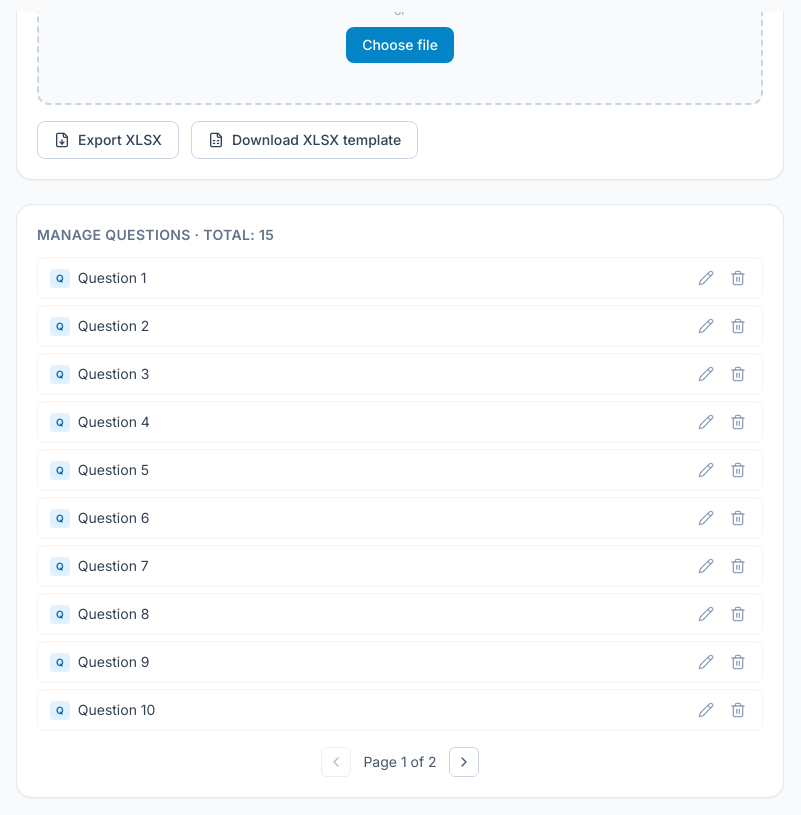
Test: AdminPanel › supports pagination when questions exceed 10 items
(page scrolled)
Expected: the text "Page 1 of 2" is shown, x1=363 y1=752 x2=437 y2=772
Expected: the text "Question 1" is shown, x1=78 y1=269 x2=146 y2=286
Click the button named "Next page": {"x": 464, "y": 762} x1=449 y1=747 x2=479 y2=777
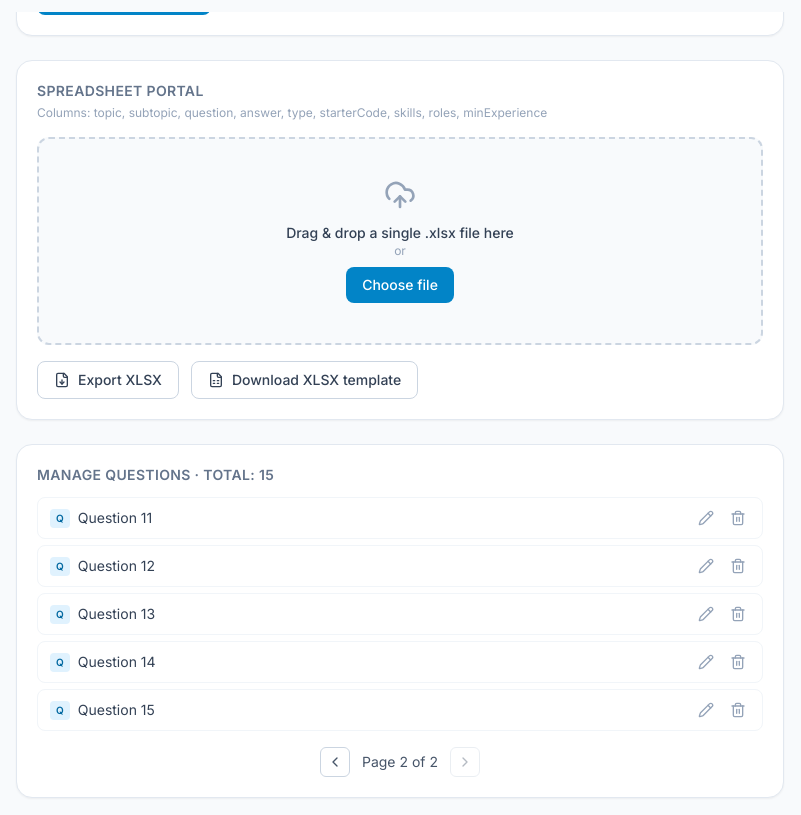
Now the text "Page 2 of 2" is shown, box x1=362 y1=752 x2=438 y2=772
Now the text "Question 11" is shown, box x1=78 y1=509 x2=152 y2=526
Click the button named "Previous page": {"x": 335, "y": 762} x1=320 y1=747 x2=350 y2=777
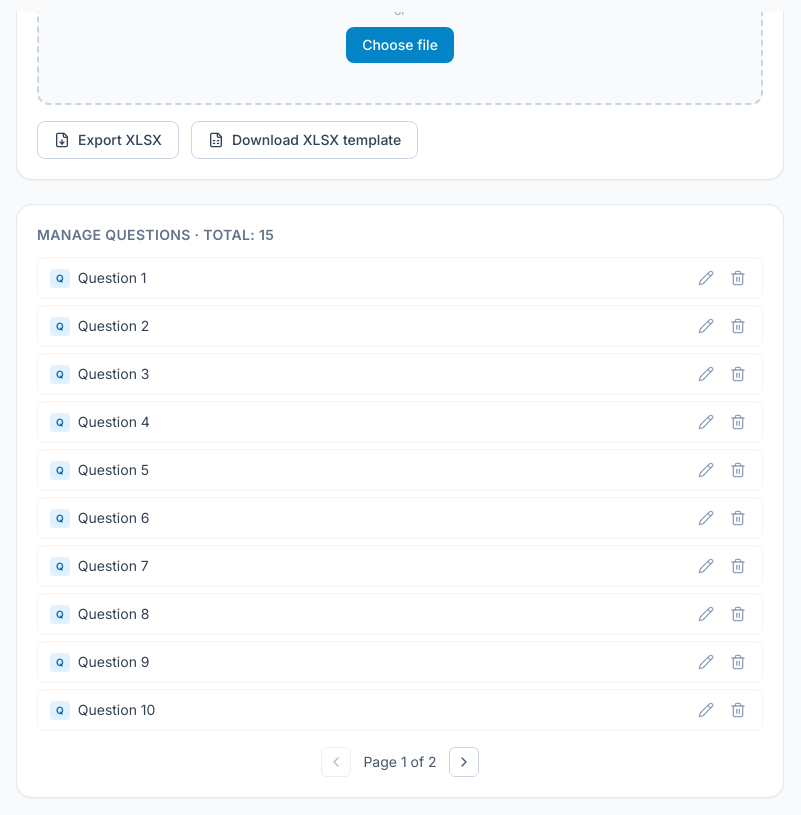
Now the text "Page 1 of 2" is shown, box x1=363 y1=752 x2=437 y2=772
